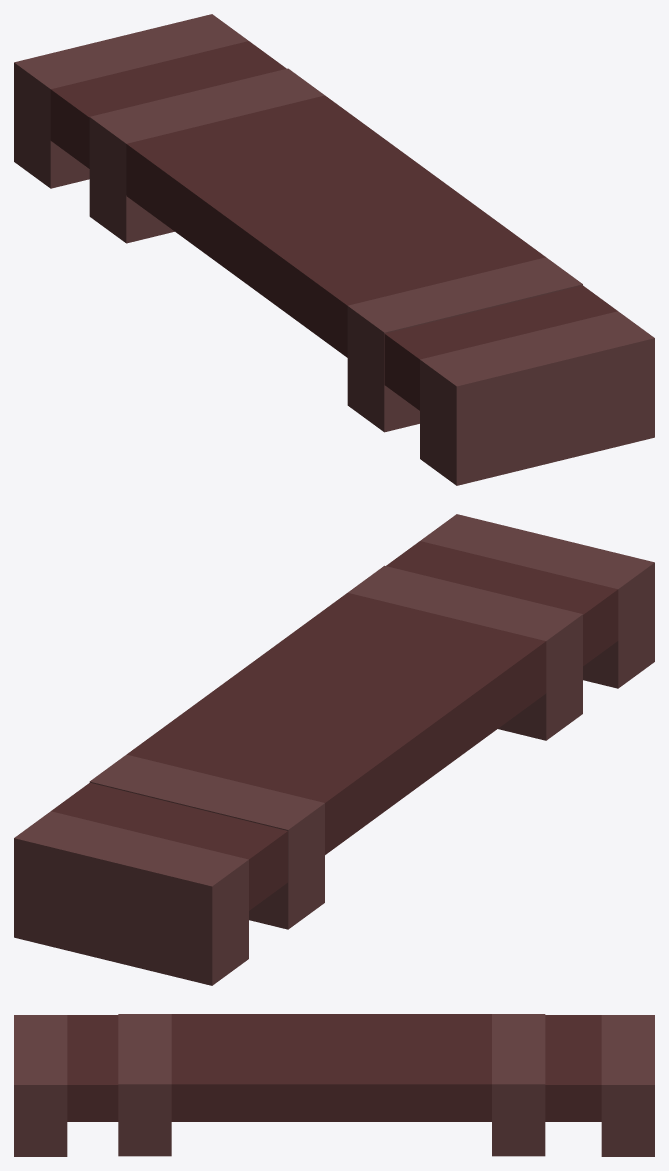
File: DesignWood.fbx
The picture shows the model from 3 angles, top to bottom: view 1: azimuth 30°, elevation 25°; view 2: azimuth 150°, elevation 25°; view 3: azimuth 270°, elevation 25°; orthographic projection. The views are drawn at different scales.
Visible parts, largest first — view 1: Plane.001, Plane; view 2: Plane.001, Plane; view 3: Plane.001, Plane.
Boxes of the visible parts, bbox=[...] form: Plane.001: bbox=[89, 68, 582, 432]; Plane: bbox=[14, 14, 654, 485]; Plane.001: bbox=[89, 565, 582, 929]; Plane: bbox=[14, 514, 654, 985]; Plane.001: bbox=[118, 1014, 545, 1156]; Plane: bbox=[14, 1015, 654, 1156].
Size of the model in its own units: 77.82 by 300 by 37.62.
2 materials, 2 textured.
